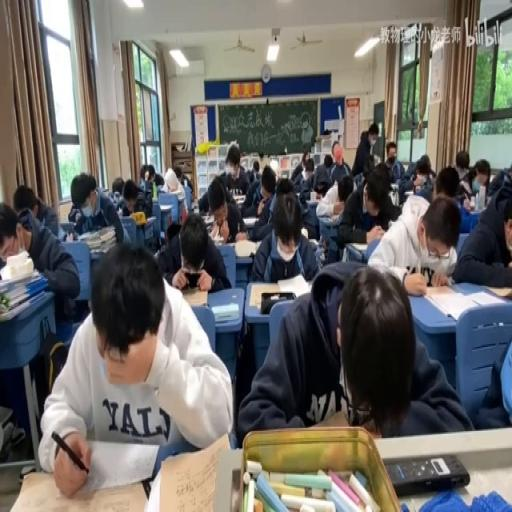calculator: (7, 462, 151, 512), (420, 283, 500, 320), (277, 272, 311, 298), (248, 282, 281, 308), (210, 300, 238, 322), (180, 287, 209, 307), (78, 226, 112, 243), (234, 238, 257, 256), (313, 240, 326, 270), (87, 239, 115, 252), (201, 216, 214, 235), (59, 219, 75, 233), (347, 240, 367, 250), (389, 183, 398, 205), (210, 233, 224, 245), (242, 214, 258, 224), (326, 213, 341, 222), (232, 193, 246, 202), (308, 238, 318, 248), (144, 216, 156, 223), (306, 198, 320, 204), (159, 204, 172, 210), (403, 189, 414, 196)
paper: (40, 240, 230, 494), (232, 262, 466, 445), (2, 195, 79, 323), (367, 190, 458, 286), (248, 186, 319, 282), (453, 179, 512, 287), (157, 203, 228, 289), (68, 171, 126, 239), (473, 330, 512, 431), (214, 142, 250, 202), (402, 151, 434, 202), (158, 166, 186, 224), (351, 122, 378, 178), (118, 176, 150, 218), (464, 159, 490, 202), (328, 142, 350, 186), (310, 154, 333, 196), (290, 151, 312, 192), (434, 165, 460, 199), (382, 141, 402, 183), (13, 185, 38, 215), (493, 176, 512, 212), (454, 150, 470, 180), (260, 168, 276, 196), (275, 176, 294, 198), (111, 176, 124, 199), (352, 170, 365, 190), (338, 186, 350, 205), (154, 170, 164, 188), (238, 154, 248, 170), (174, 165, 182, 182), (140, 166, 147, 184), (252, 160, 259, 176), (148, 165, 154, 183), (305, 165, 313, 176), (302, 155, 307, 168)
person: (385, 452, 470, 494), (184, 270, 200, 288), (18, 206, 28, 222)
